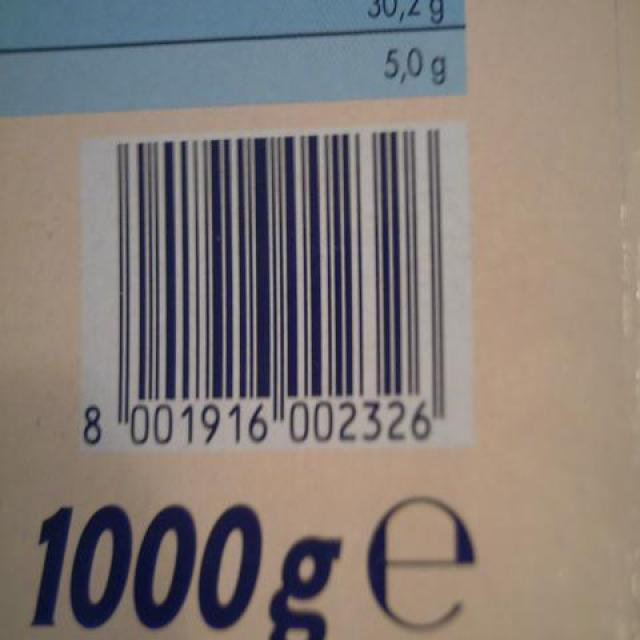Barcode: (71, 119, 477, 456)
